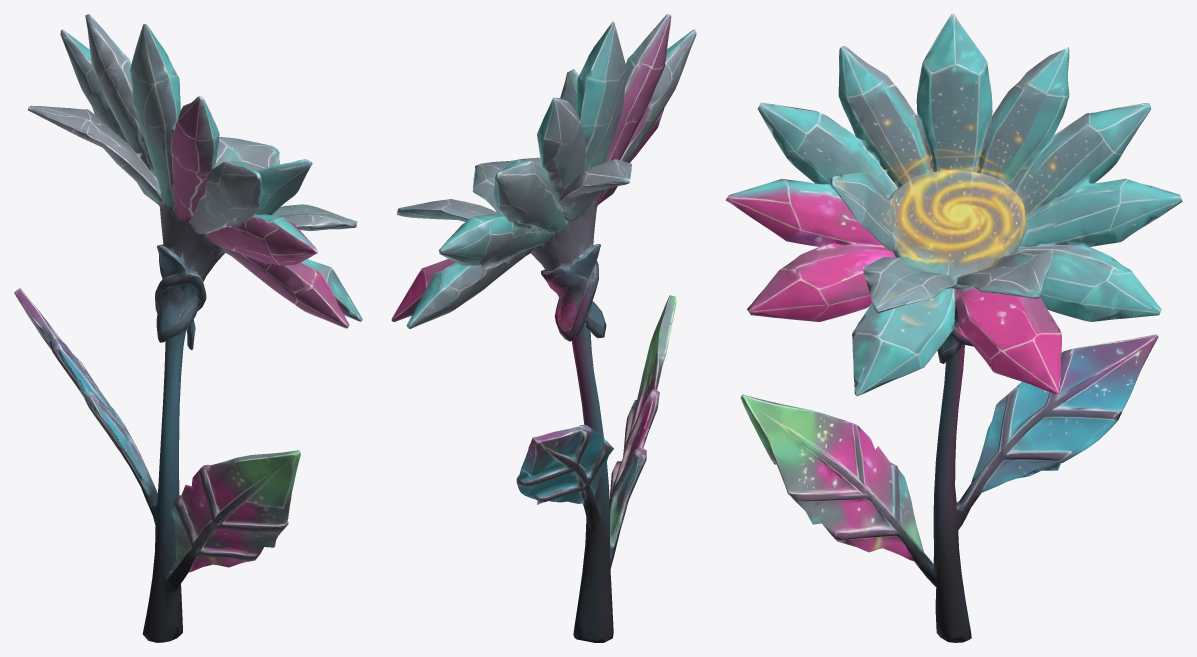
File: cosmic-crystal-bloom .glb
The picture shows the model from 3 angles, left to right: view 1: azimuth 30°, elevation 25°; view 2: azimuth 150°, elevation 25°; view 3: azimuth 270°, elevation 25°; orthographic projection.
Visible parts, largest first — view 1: Mesh::generatedModels/WuMxsfiY9i8DUrScM3Vv.gltf; view 2: Mesh::generatedModels/WuMxsfiY9i8DUrScM3Vv.gltf; view 3: Mesh::generatedModels/WuMxsfiY9i8DUrScM3Vv.gltf.
Boxes of the visible parts, x1,y1,x2,y2 form: Mesh::generatedModels/WuMxsfiY9i8DUrScM3Vv.gltf: (14,14,362,642); Mesh::generatedModels/WuMxsfiY9i8DUrScM3Vv.gltf: (391,14,696,642); Mesh::generatedModels/WuMxsfiY9i8DUrScM3Vv.gltf: (725,14,1182,642).
Bounding box in the file's own units: 0.4106 × 1 × 0.6773.
1 material, 1 textured.
